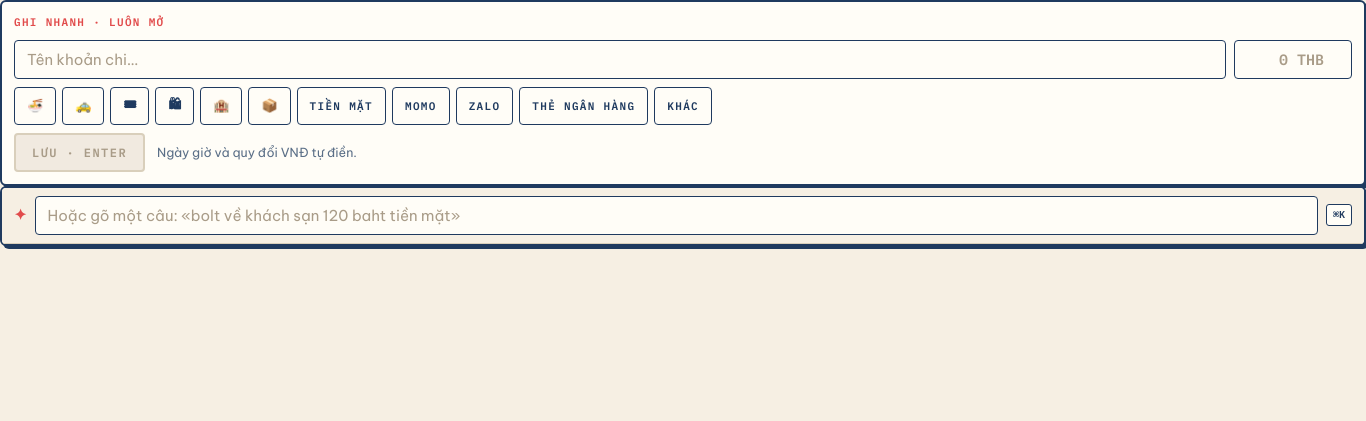
Test: kieu l1 · Hôm nay laptop (v10.9) › «Sửa tay» từ thanh ✦ đổ đúng vào thẻ gọn (cùng một linh kiện)
In the field with placeholder "Hoặc gõ một câu: «bolt về khách sạn 120 baht tiền mặt»": (676, 215) [35, 196, 1318, 235], type "taxi 1.200 thẻ"
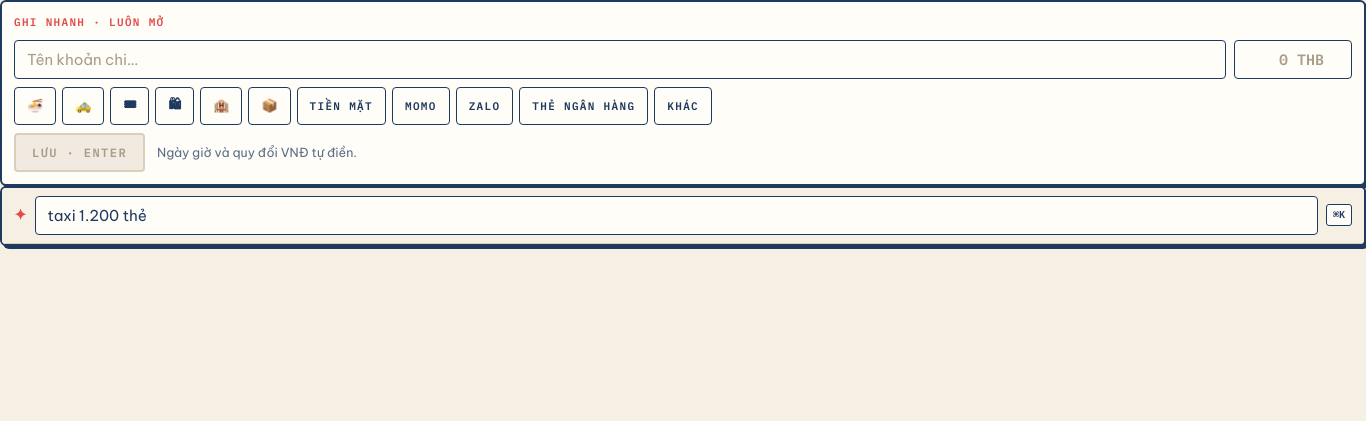
Press Enter in the 2nd field, box [35, 196, 1318, 235]
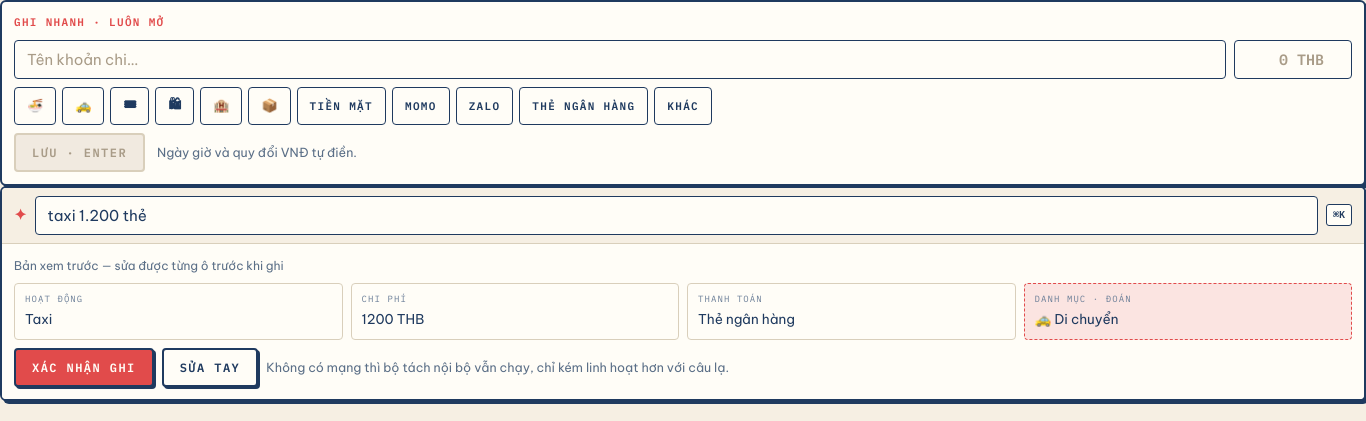
Click the button with class "nut--vien": (210, 367) [162, 348, 258, 387]
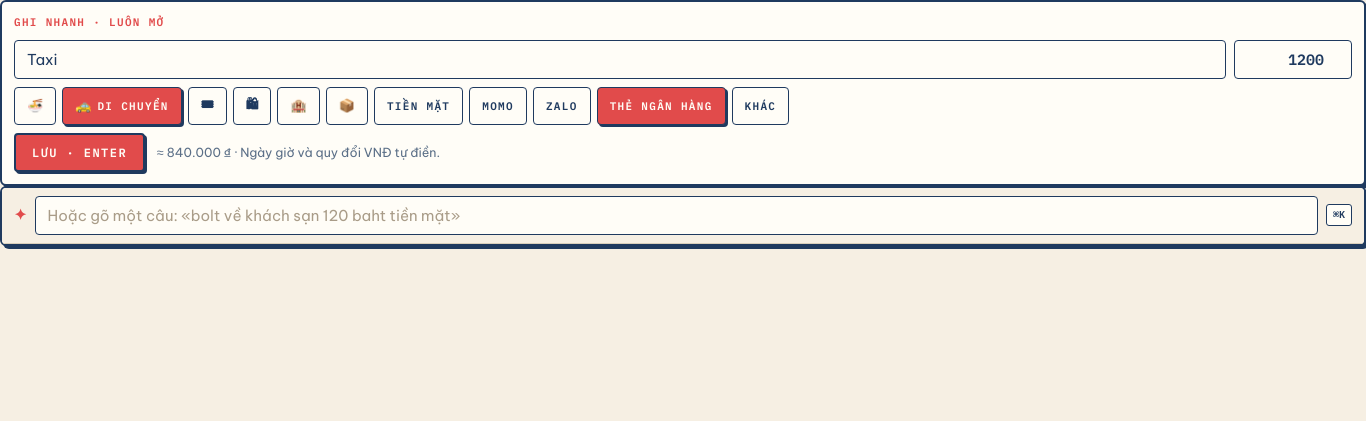
Now the 1st field holds "Taxi", box [14, 40, 1226, 79]
Now the number field holds "1200", box [1234, 40, 1352, 79]
